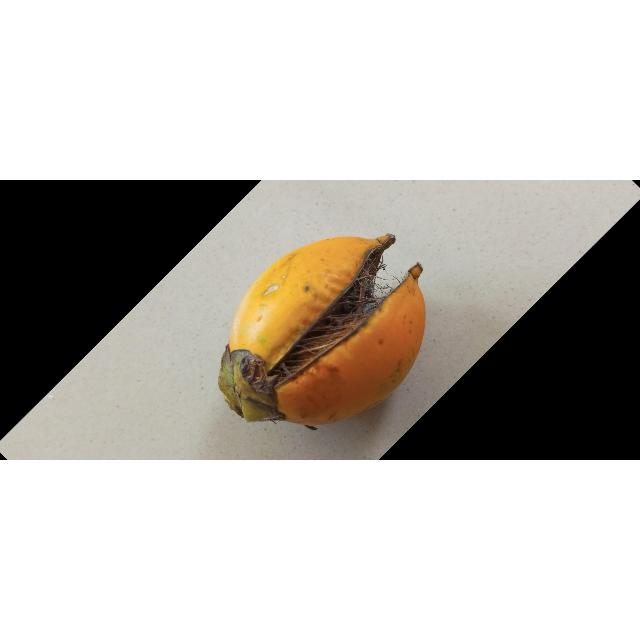damaged: (218, 235, 426, 427)
